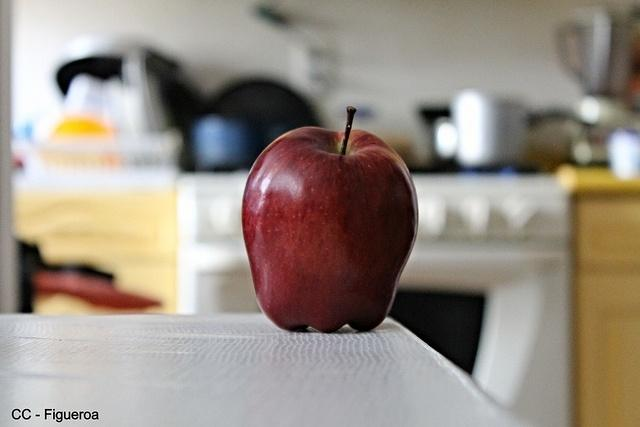apples: (243, 120, 420, 331)
